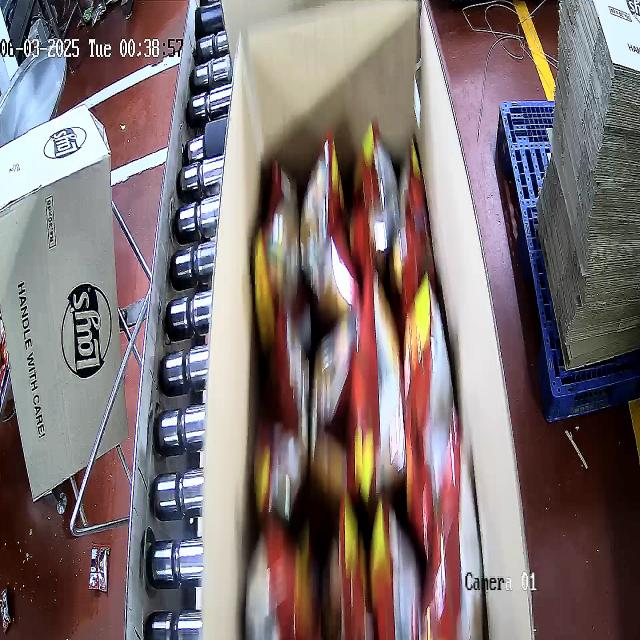MASALA: (247, 119, 463, 638)
